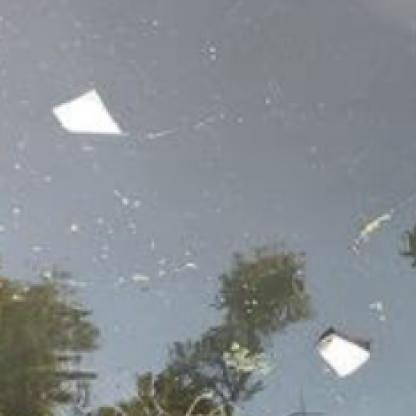Plastic: (308, 329, 376, 380)
Trash: (50, 86, 131, 146)
